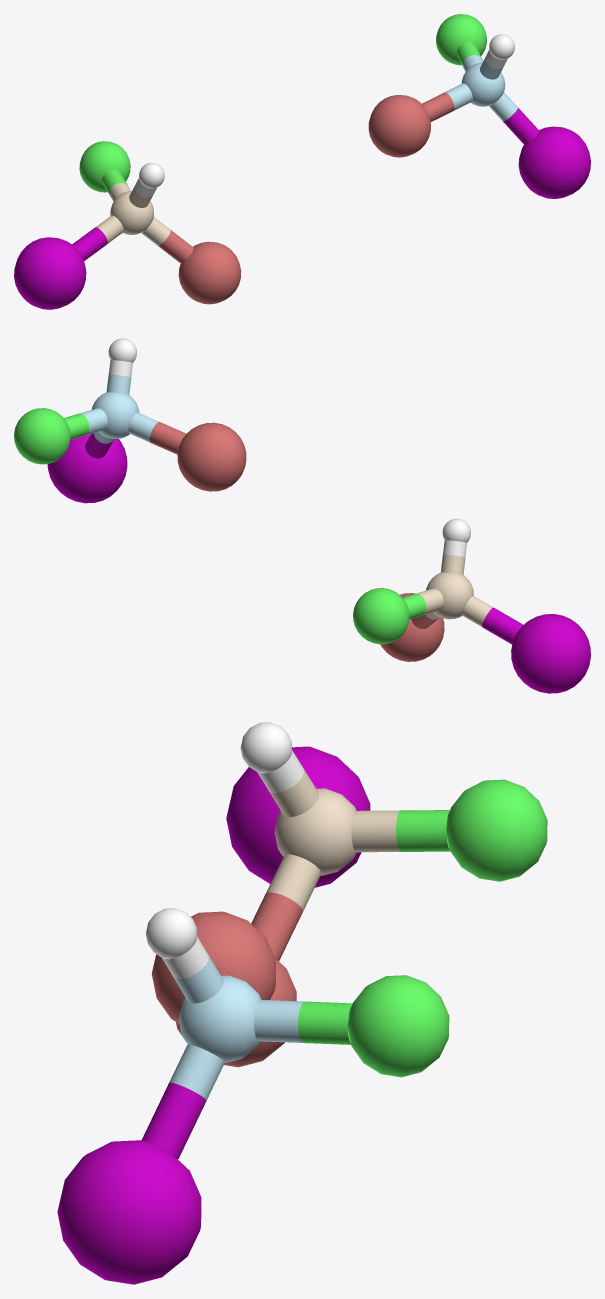
The model's file is chiral_molecules.glb.
3 views of the same model, one above another, from view 1: azimuth 30°, elevation 25°; view 2: azimuth 150°, elevation 25°; view 3: azimuth 270°, elevation 25° (orthographic). The views are drawn at different scales.
Parts seen in each view (by area): view 1: Object_9, Object_38, Object_36, Object_11, Object_7, Object_34, Object_5, Object_32, Object_52, Object_21, Object_25, Object_48 (+6 smaller); view 2: Object_9, Object_36, Object_38, Object_7, Object_34, Object_11, Object_5, Object_32, Object_21, Object_48, Object_13, Object_40 (+4 smaller); view 3: Object_38, Object_7, Object_34, Object_9, Object_36, Object_32, Object_5, Object_52, Object_17, Object_44, Object_13, Object_40 (+10 smaller).
Boxes of the visible parts, box(x1,y1,x2,y2) form: Object_9: box(14, 237, 86, 309); Object_38: box(518, 126, 590, 198); Object_36: box(368, 95, 430, 157); Object_11: box(178, 241, 241, 304); Object_7: box(79, 141, 130, 192); Object_34: box(436, 14, 486, 65); Object_5: box(110, 191, 153, 234); Object_32: box(461, 62, 505, 106); Object_52: box(503, 107, 539, 144); Object_21: box(72, 227, 107, 260); Object_25: box(158, 230, 193, 263); Object_48: box(422, 92, 454, 121); Object_9: box(511, 614, 590, 693); Object_36: box(177, 422, 246, 491); Object_38: box(47, 434, 127, 503); Object_7: box(353, 588, 409, 644); Object_34: box(14, 408, 70, 464); Object_11: box(380, 593, 444, 661); Object_5: box(426, 572, 473, 619); Object_32: box(91, 392, 139, 438); Object_21: box(482, 607, 523, 644); Object_48: box(149, 422, 186, 454); Object_13: box(442, 518, 470, 542); Object_40: box(108, 338, 136, 362); Object_38: box(57, 1140, 201, 1284); Object_7: box(446, 779, 547, 881); Object_34: box(347, 975, 449, 1077); Object_9: box(226, 746, 370, 887); Object_36: box(151, 911, 275, 1023); Object_32: box(178, 975, 261, 1062); Object_5: box(274, 788, 356, 875); Object_52: box(141, 1082, 206, 1158); Object_17: box(396, 810, 450, 851); Object_44: box(298, 1001, 352, 1044); Object_13: box(240, 722, 291, 773); Object_40: box(145, 908, 196, 958).
Bounding box in the file's own units: 3.21 × 1.23 × 1.3.
